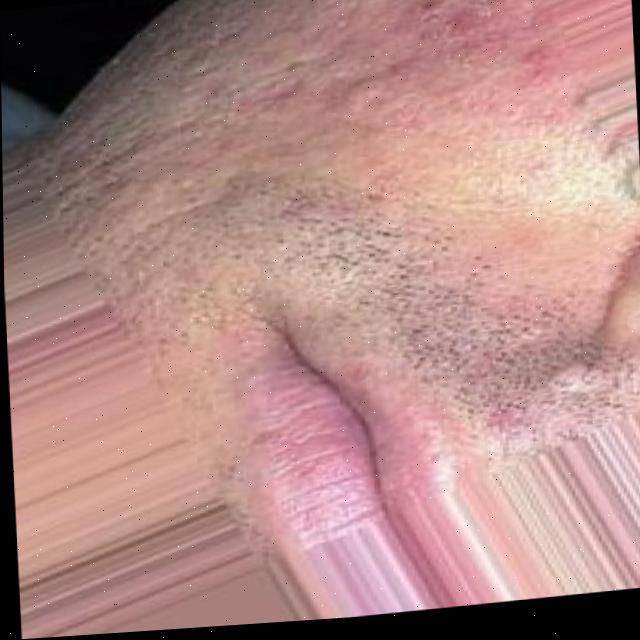Rosacea: (324, 0, 589, 206)
